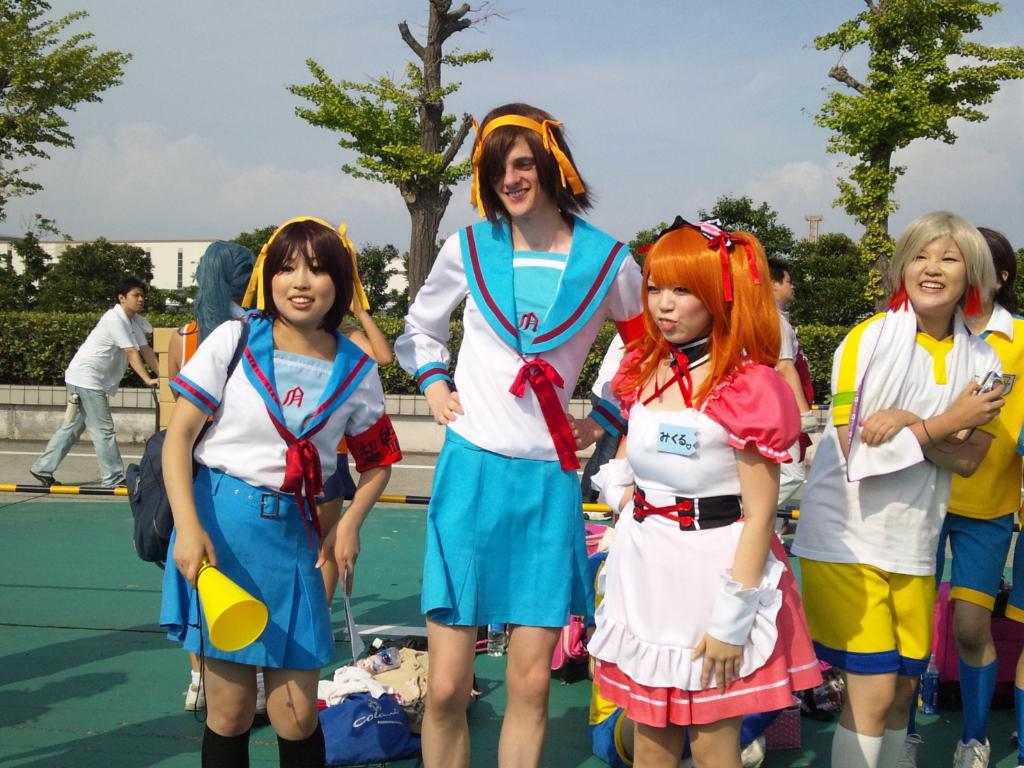Human-face: (271, 237, 335, 322), (906, 231, 966, 314), (495, 133, 539, 220), (647, 275, 705, 340), (782, 271, 798, 301), (126, 287, 147, 308)
